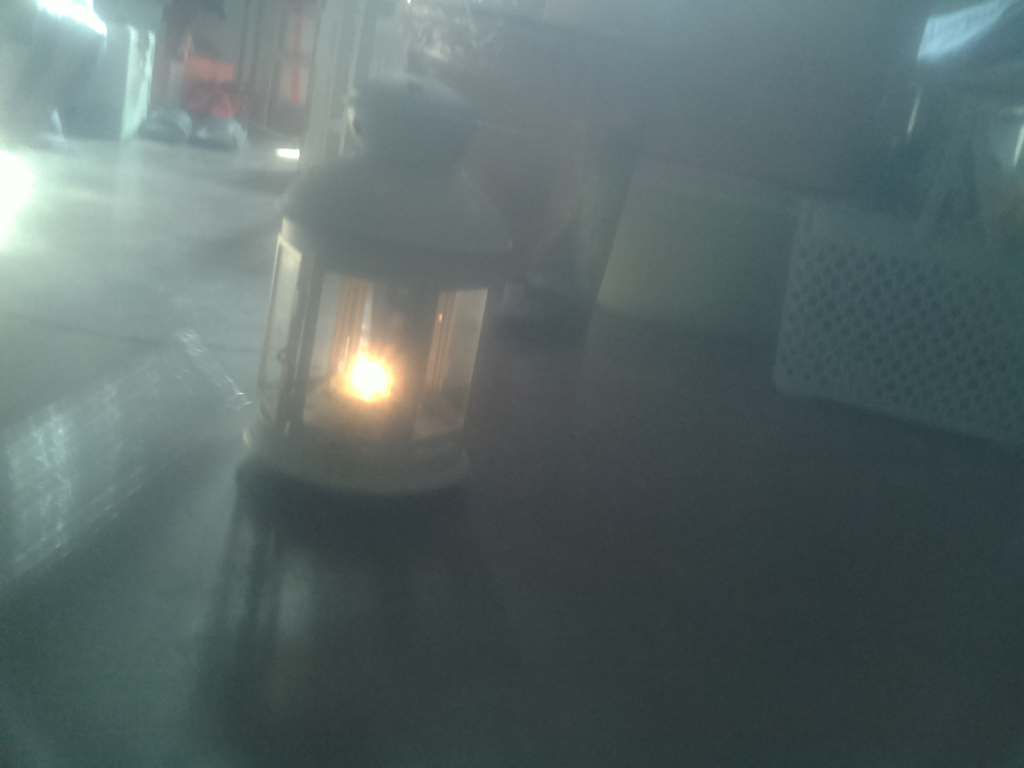fire: (331, 338, 414, 419)
